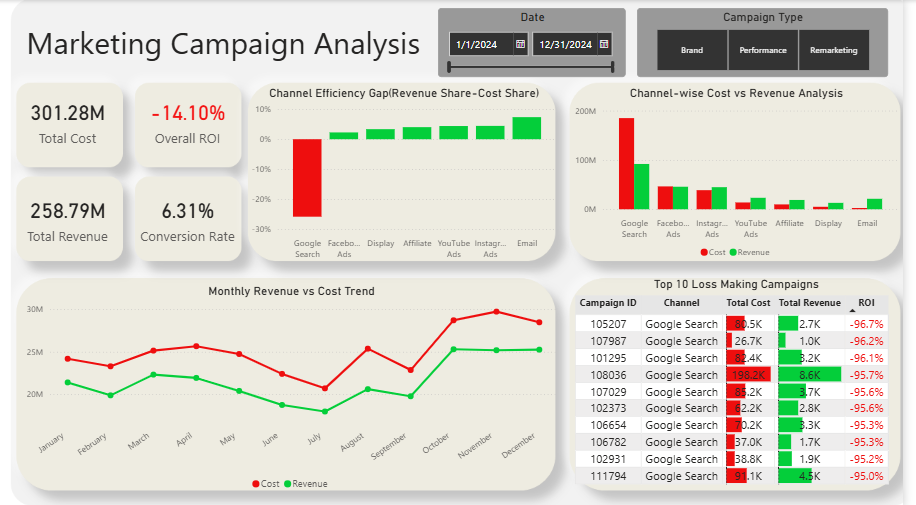

The page's visual inventory and layout, read from the dashboard file:
{"tool":"powerbi","page":{"name":"Page 1","canvas":[1280,720],"ordinal":0},"visuals":[{"type":"card","fields":{"Values":["marketing_campaign_dataset_12k.Total Cost"]},"box":[21.3,109.1,151.7,121.9],"z":0},{"type":"card","fields":{"Values":["marketing_campaign_dataset_12k.Total Revenue"]},"box":[21.3,249.4,151.7,120.5],"z":1000},{"type":"card","fields":{"Values":["marketing_campaign_dataset_12k.Overall ROI"]},"box":[191.3,109.1,151.7,121.9],"z":2000},{"type":"card","fields":{"Values":["marketing_campaign_dataset_12k.Conversion Rate"]},"box":[191.3,249.4,151.7,120.5],"z":3000},{"type":"clusteredColumnChart","title":"Channel-wise Cost vs Revenue Analysis","fields":{"Category":["marketing_campaign_dataset_12k.channel"],"Y":["marketing_campaign_dataset_12k.Total Cost","marketing_campaign_dataset_12k.Total Revenue"]},"box":[810.7,121.9,469.1,253.7],"z":4000},{"type":"clusteredColumnChart","title":"Channel Efficiency Gap(Revenue Share-Cost Share)","fields":{"Category":["marketing_campaign_dataset_12k.channel"],"Y":["marketing_campaign_dataset_12k.Efficiency Gap"]},"box":[358.6,121.9,436.5,253.7],"z":5000},{"type":"lineChart","title":"Monthly Revenue vs Cost Trend","fields":{"Category":["marketing_campaign_dataset_12k.date.Variation.Date Hierarchy.Month"],"Y":["marketing_campaign_dataset_12k.Total Cost","marketing_campaign_dataset_12k.Total Revenue"]},"box":[34,402.5,761.1,301.9],"z":6000},{"type":"tableEx","title":"Top 10 Loss Making Campaigns","fields":{"Values":["marketing_campaign_dataset_12k.campaign_id","marketing_campaign_dataset_12k.channel","marketing_campaign_dataset_12k.Total Cost","marketing_campaign_dataset_12k.Total Revenue","marketing_campaign_dataset_12k.Overall ROI"]},"box":[810.7,392.6,469.1,297.6],"z":7000},{"type":"textbox","box":[34,25.5,571.2,69.4],"z":8000},{"type":"slicer","title":"Date","fields":{"Values":["marketing_campaign_dataset_12k.date"]},"box":[622.2,11.3,266.5,97.8],"z":9000},{"type":"slicer","title":"Campaign Type","fields":{"Values":["marketing_campaign_dataset_12k.campaign_type"]},"box":[904.3,11.3,355.7,97.8],"z":10000}]}

Visuals, with their boxes in screenshot pixels (x1, y1, x2, y2), scaled from the page's 1280x720 canvas onto the 916x505 screenshot:
card - marketing_campaign_dataset_12k.Total Cost: (left=15, top=77, right=124, bottom=162)
card - marketing_campaign_dataset_12k.Total Revenue: (left=15, top=175, right=124, bottom=259)
card - marketing_campaign_dataset_12k.Overall ROI: (left=137, top=77, right=245, bottom=162)
card - marketing_campaign_dataset_12k.Conversion Rate: (left=137, top=175, right=245, bottom=259)
"Channel-wise Cost vs Revenue Analysis" clusteredColumnChart: (left=580, top=85, right=915, bottom=263)
"Channel Efficiency Gap(Revenue Share-Cost Share)" clusteredColumnChart: (left=257, top=85, right=569, bottom=263)
"Monthly Revenue vs Cost Trend" lineChart: (left=24, top=282, right=569, bottom=494)
"Top 10 Loss Making Campaigns" tableEx: (left=580, top=275, right=915, bottom=484)
textbox: (left=24, top=18, right=433, bottom=67)
"Date" slicer: (left=445, top=8, right=636, bottom=77)
"Campaign Type" slicer: (left=647, top=8, right=902, bottom=77)
